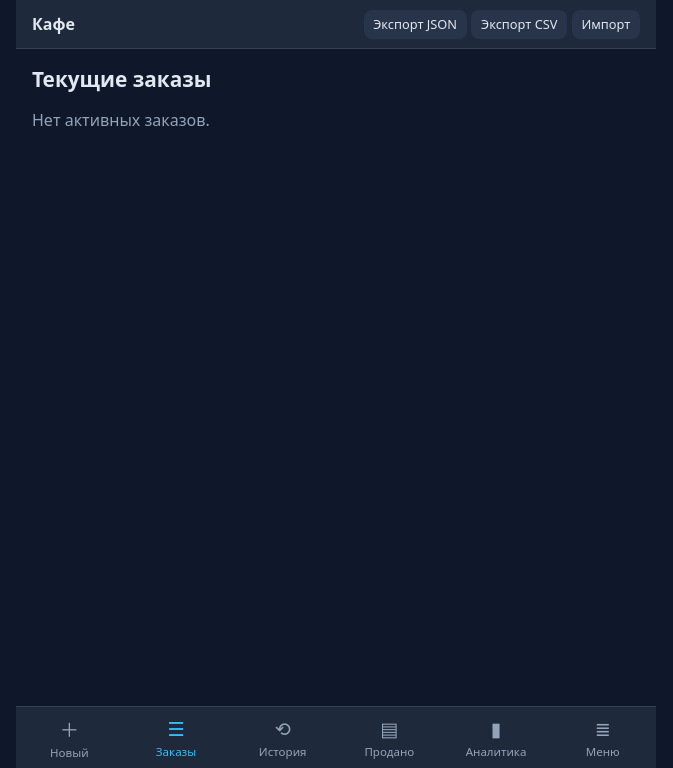
Scenario: App › renders every view without error when switching tabs
This screenshot has width=673, height=768.
Press the mouse on the tab with class "tab" showing "＋ Новый" at (69, 738), box [16,707,123,767]
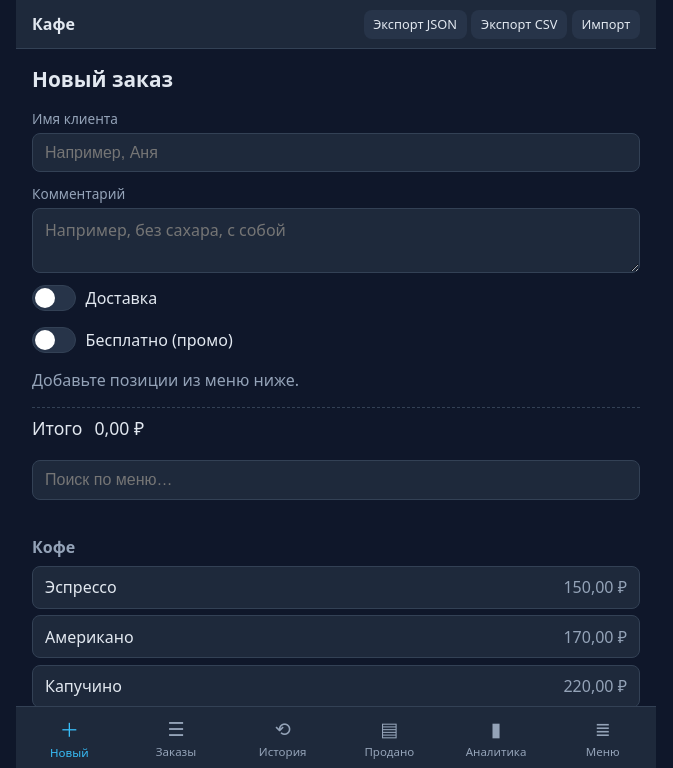
Expected: the text "Новый заказ" is shown, [32,65,173,93]
Expected: the button with class "menu-item" showing "Эспрессо 150,00 ₽" is shown, [32,566,640,609]
Press the mouse on the tab with class "tab" showing "▤ Продано" at (389, 738), box [336,707,443,767]
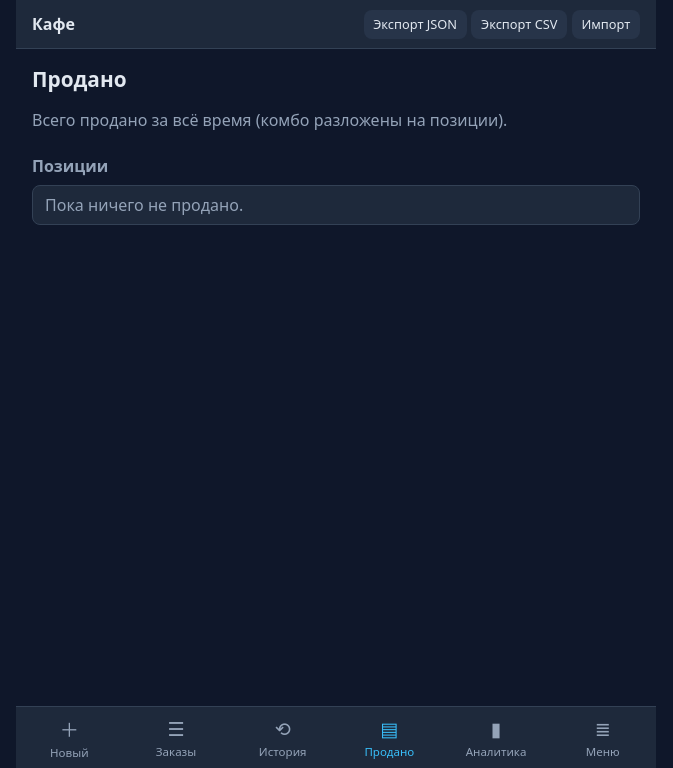
Expected: the text "Продано" is shown, [32,65,126,93]
Press the mouse on the tab with class "tab" showing "▮ Аналитика" at (496, 738), box [443,707,549,767]
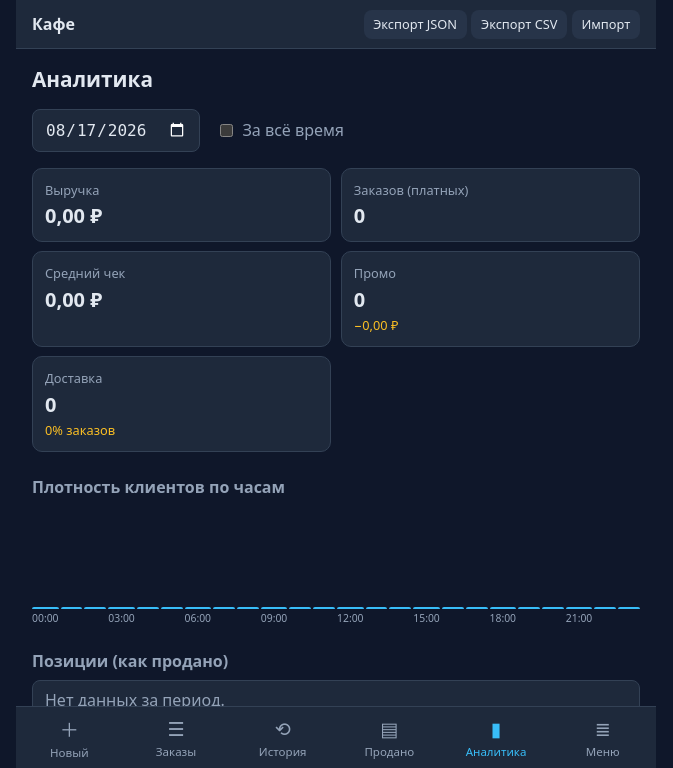
Expected: the text "Аналитика" is shown, [32,65,153,93]
Expected: the element with class "density" is shown, [32,607,640,625]
